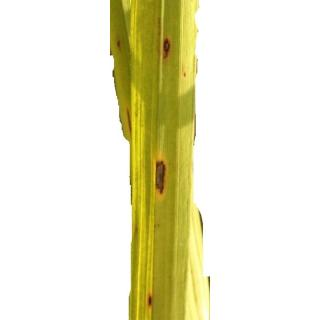bercak-Cokelat: (152, 155, 174, 200), (136, 291, 158, 317), (160, 30, 177, 60)
